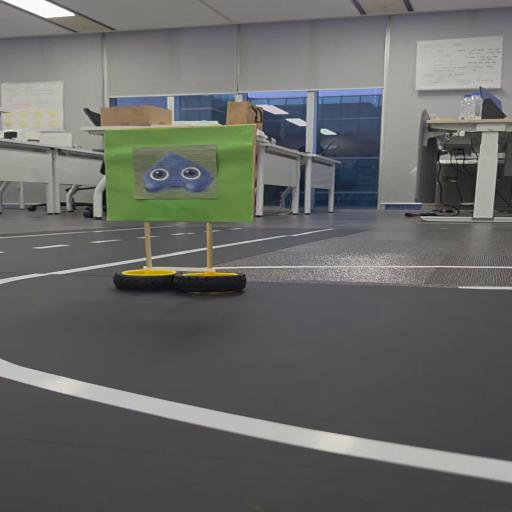Sign_B: (93, 127, 264, 302)
